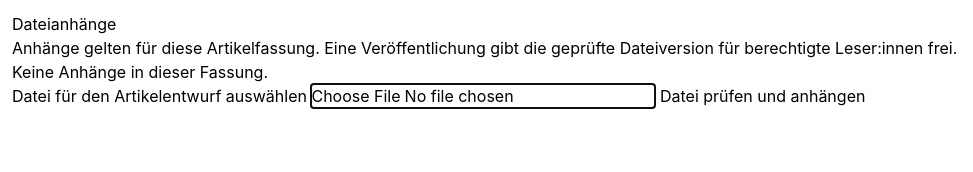
Test: uploads once and retries the same version after an unconfirmed attachment, then downloads the authorized link
Earlier steps of the test are not shown.
Later steps or results of the test are not shown.
Click the button "Datei prüfen und anhängen". click: coordinates (763, 96)
box: x1=660 y1=84 x2=865 y2=108
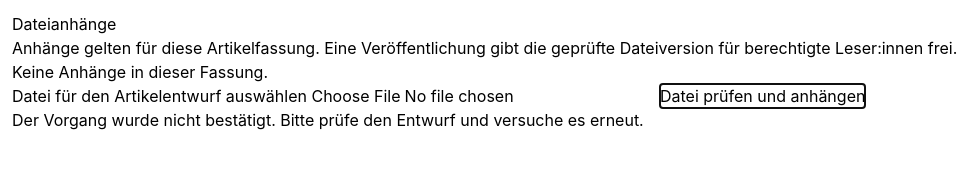
Check: the message shows "nicht bestätigt", box x1=12 y1=110 x2=644 y2=130
